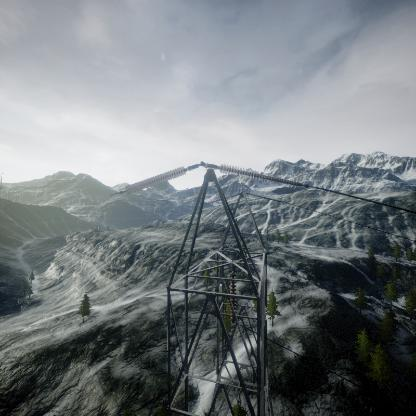insulator: (215, 163, 309, 189), (116, 163, 188, 196), (227, 268, 239, 322)
